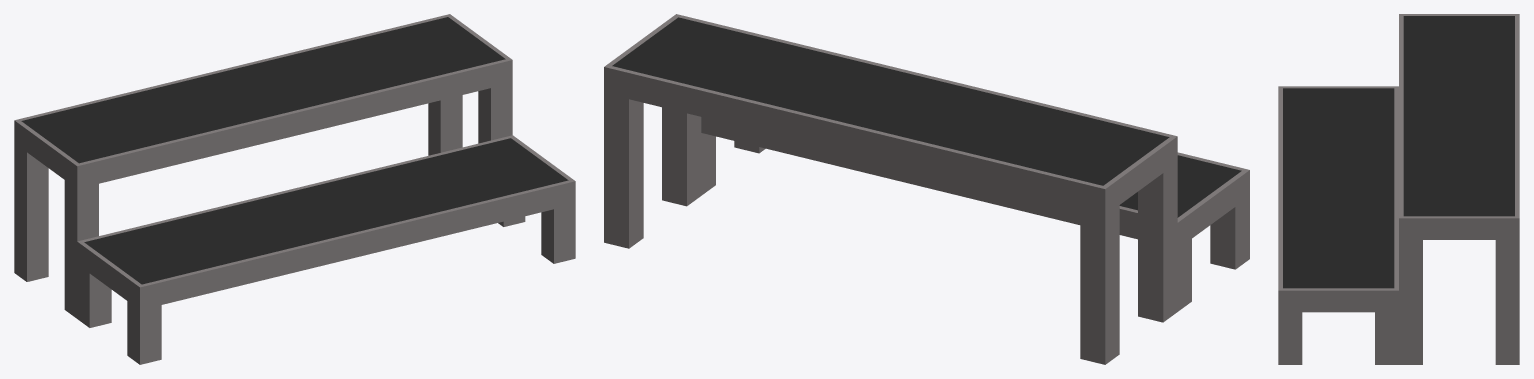
File: stage-platform-stairs-medium.glb
3 views of the same model, side by side, from view 1: azimuth 30°, elevation 25°; view 2: azimuth 150°, elevation 25°; view 3: azimuth 270°, elevation 25° (orthographic). The views are drawn at different scales.
Parts seen in each view (by area): view 1: stage-platform-stairs-medium; view 2: stage-platform-stairs-medium; view 3: stage-platform-stairs-medium.
Part boxes in pixels (left/top/right/bottom): stage-platform-stairs-medium: left=14, top=14, right=575, bottom=364; stage-platform-stairs-medium: left=604, top=14, right=1249, bottom=364; stage-platform-stairs-medium: left=1278, top=14, right=1519, bottom=364.
Bounding box in the file's own units: 2 × 0.67 × 0.9994.
Materials: 1 (1 with a texture image).
